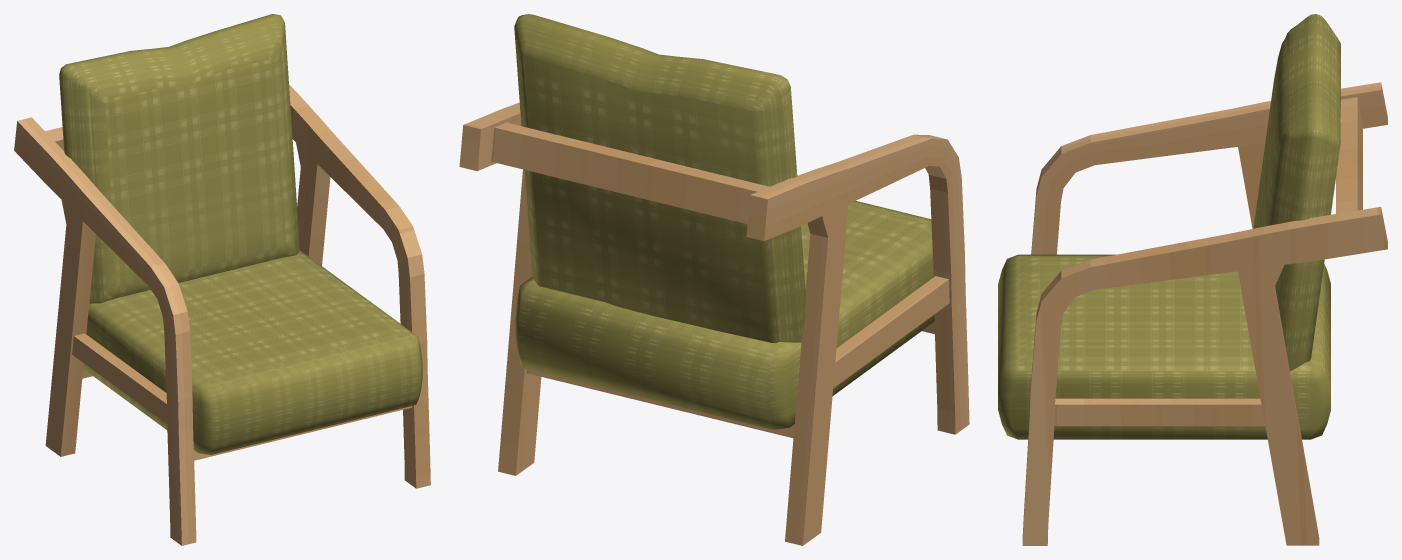
File: modern chair.fbx
3 renders of one model, left to right at view 1: azimuth 30°, elevation 25°; view 2: azimuth 150°, elevation 25°; view 3: azimuth 270°, elevation 25°, orthographic. The views are drawn at different scales.
Parts seen in each view (by area): view 1: modern chair; view 2: modern chair; view 3: modern chair.
Part boxes in pixels (box(x1,y1,x2,y2)): modern chair: box(14, 14, 430, 545); modern chair: box(459, 14, 969, 545); modern chair: box(998, 14, 1387, 545).
Bounding box in the file's own units: 63.67 × 92.17 × 79.32.
Materials: 2 (2 with a texture image).
